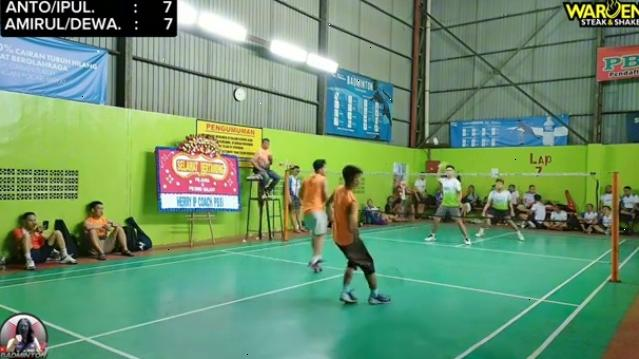Shuttlecock: (434, 136, 442, 146)
